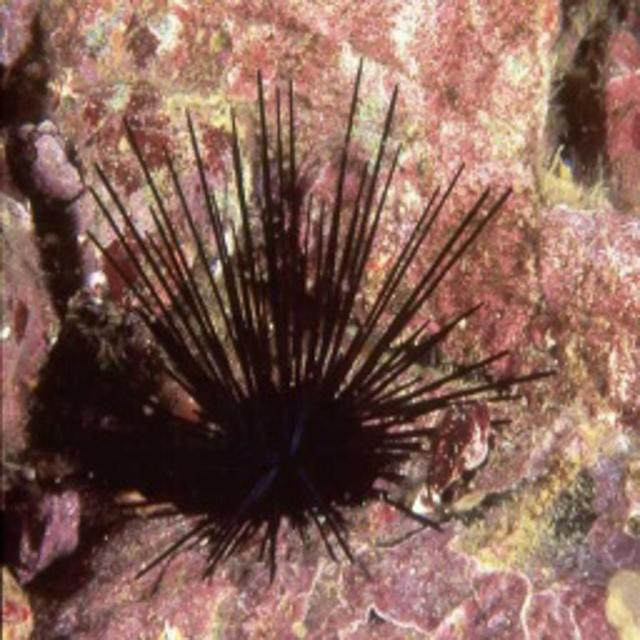Urchin: (78, 67, 549, 555)
